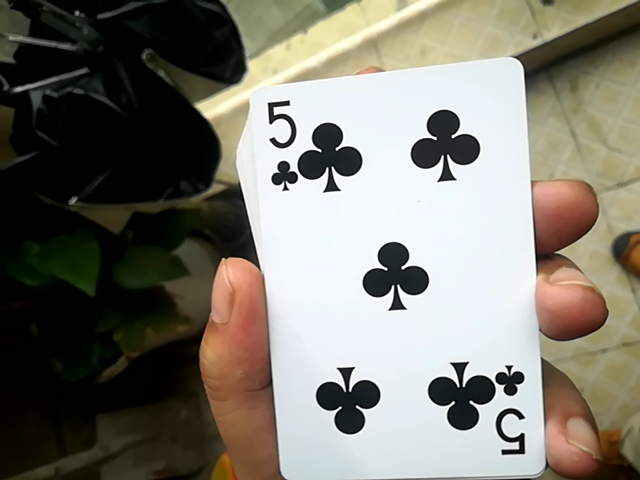mh 5: (229, 65, 552, 475)
